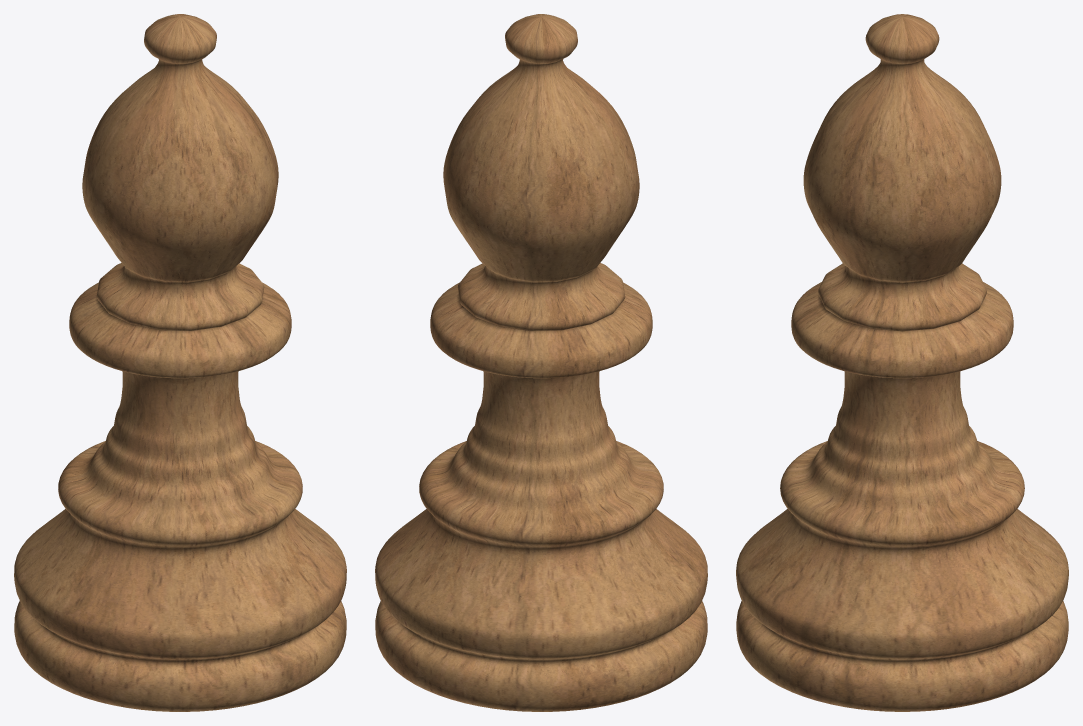
Rendered from 白ビショップ.fbx.
3 renders of one model, left to right at view 1: azimuth 30°, elevation 25°; view 2: azimuth 150°, elevation 25°; view 3: azimuth 270°, elevation 25°, orthographic.
Visible parts, largest first — view 1: 白ビショップ1; view 2: 白ビショップ1; view 3: 白ビショップ1.
Boxes of the visible parts, x1,y1,x2,y2 form: 白ビショップ1: [14, 14, 346, 711]; 白ビショップ1: [375, 14, 707, 711]; 白ビショップ1: [736, 14, 1068, 711].
Size of the model in its own units: 2.23 by 4.7 by 2.23.
